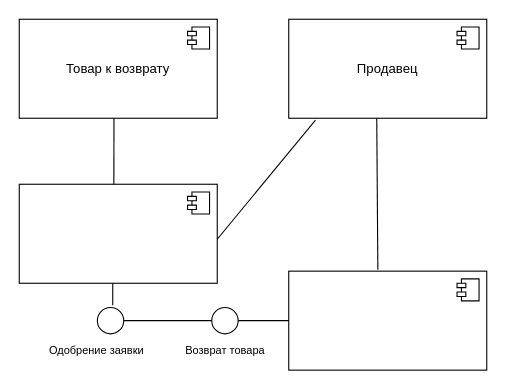
Some shapes in this 506 by 389 pixel diagram are drawn without their labels. Each missing label, with the centre of its shape:
"Заявка" belongs at (117,233).
"Покупатель" belongs at (387,320).
